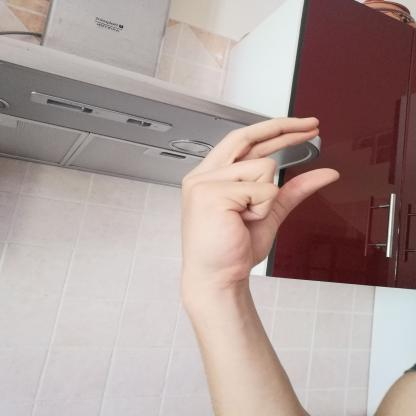DHELL: (166, 108, 351, 288)
